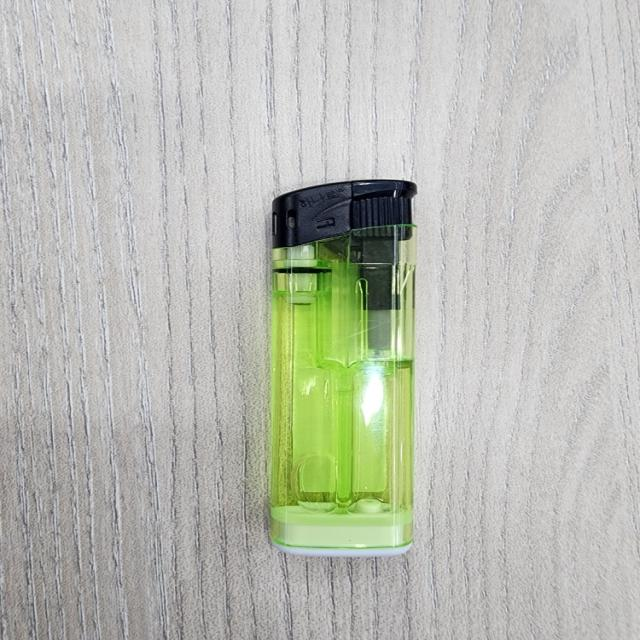lighter: (258, 176, 427, 561)
